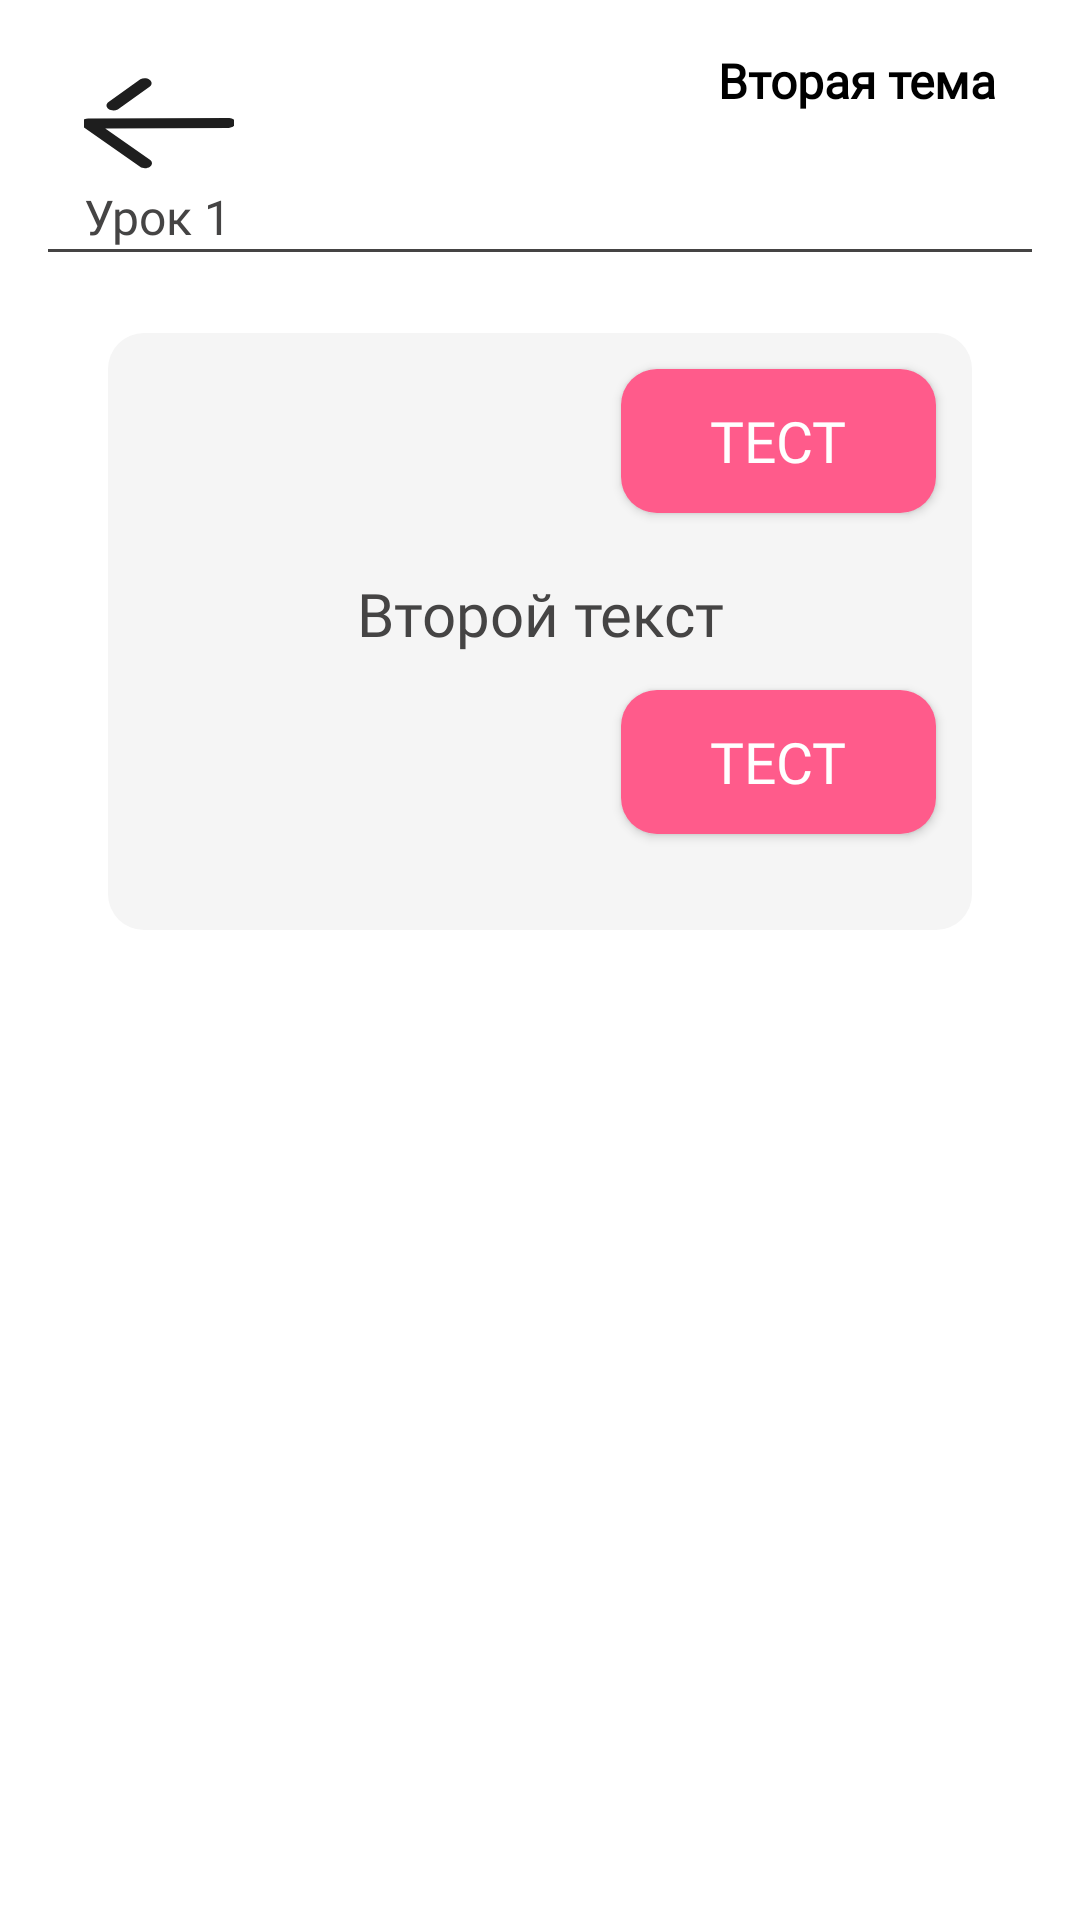

Icon bounding boxes for this 1080 x 1920 phone screenshot, format (x1, y1, x2, y2):
strelka: (84, 78, 234, 169)
